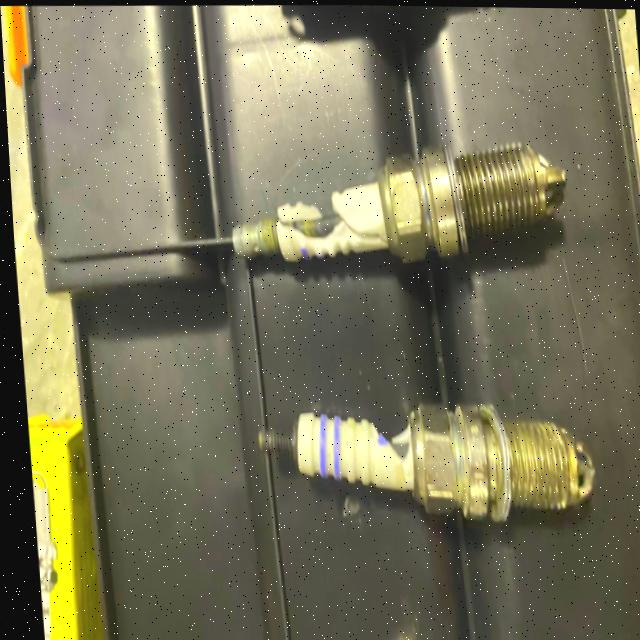damaged_spark-plug: (216, 125, 579, 277), (240, 387, 597, 530)
